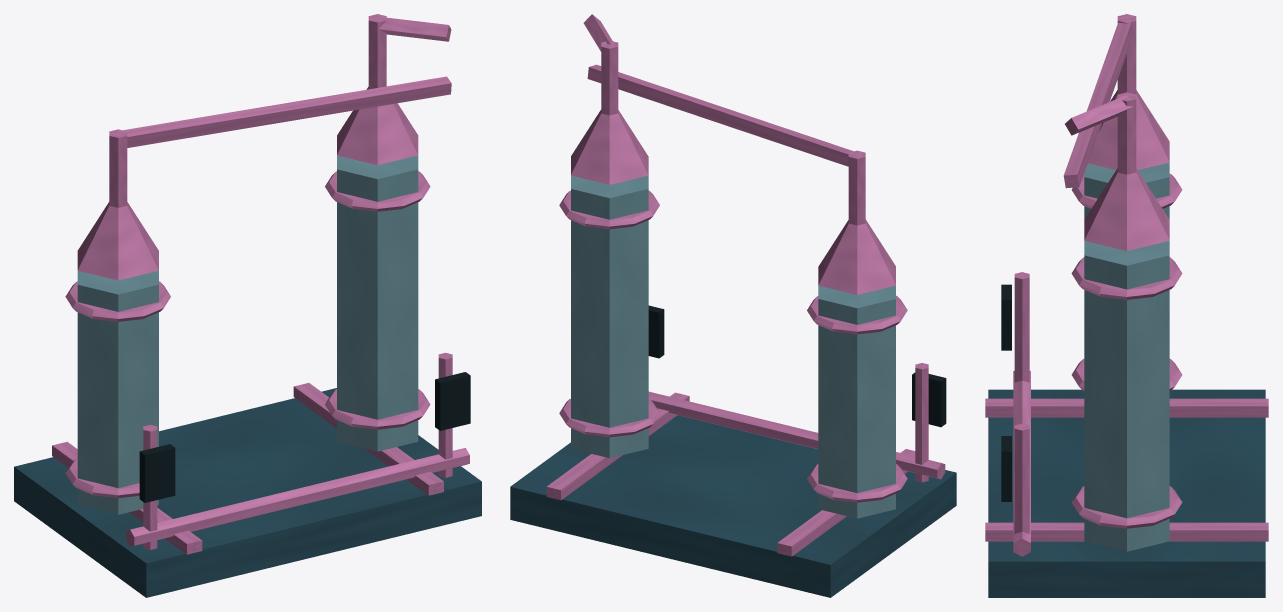
File: atlas100-s064-a01.lod1.glb
The picture shows the model from 3 angles, left to right: view 1: azimuth 30°, elevation 25°; view 2: azimuth 150°, elevation 25°; view 3: azimuth 270°, elevation 25°; orthographic projection. The views are drawn at different scales.
Visible parts, largest first — view 1: atlas100-s064-a01:part-000, atlas100-s064-a01:part-010, atlas100-s064-a01:part-003, atlas100-s064-a01:part-009, atlas100-s064-a01:part-021, atlas100-s064-a01:part-007, atlas100-s064-a01:part-014, atlas100-s064-a01:part-002, atlas100-s064-a01:part-018, atlas100-s064-a01:part-020, atlas100-s064-a01:part-011, atlas100-s064-a01:part-012 (+8 smaller); view 2: atlas100-s064-a01:part-000, atlas100-s064-a01:part-010, atlas100-s064-a01:part-003, atlas100-s064-a01:part-009, atlas100-s064-a01:part-014, atlas100-s064-a01:part-007, atlas100-s064-a01:part-021, atlas100-s064-a01:part-002, atlas100-s064-a01:part-017, atlas100-s064-a01:part-001, atlas100-s064-a01:part-004, atlas100-s064-a01:part-012 (+6 smaller); view 3: atlas100-s064-a01:part-000, atlas100-s064-a01:part-010, atlas100-s064-a01:part-014, atlas100-s064-a01:part-001, atlas100-s064-a01:part-002, atlas100-s064-a01:part-007, atlas100-s064-a01:part-009, atlas100-s064-a01:part-019, atlas100-s064-a01:part-017, atlas100-s064-a01:part-003, atlas100-s064-a01:part-021, atlas100-s064-a01:part-012 (+8 smaller).
Part boxes in pixels (x1,y1,x2,y2): atlas100-s064-a01:part-000: [14, 388, 481, 597]; atlas100-s064-a01:part-010: [337, 155, 418, 451]; atlas100-s064-a01:part-003: [77, 270, 158, 514]; atlas100-s064-a01:part-009: [116, 76, 451, 147]; atlas100-s064-a01:part-021: [126, 448, 469, 546]; atlas100-s064-a01:part-007: [77, 202, 158, 280]; atlas100-s064-a01:part-014: [337, 87, 418, 165]; atlas100-s064-a01:part-002: [293, 383, 443, 495]; atlas100-s064-a01:part-018: [139, 444, 175, 502]; atlas100-s064-a01:part-020: [435, 372, 470, 430]; atlas100-s064-a01:part-011: [325, 389, 430, 429]; atlas100-s064-a01:part-012: [325, 171, 430, 211]; atlas100-s064-a01:part-000: [510, 415, 956, 597]; atlas100-s064-a01:part-010: [571, 175, 648, 458]; atlas100-s064-a01:part-003: [818, 285, 895, 518]; atlas100-s064-a01:part-009: [587, 64, 854, 166]; atlas100-s064-a01:part-014: [571, 109, 648, 184]; atlas100-s064-a01:part-007: [818, 219, 895, 294]; atlas100-s064-a01:part-021: [648, 391, 945, 479]; atlas100-s064-a01:part-002: [546, 392, 689, 500]; atlas100-s064-a01:part-017: [915, 363, 928, 482]; atlas100-s064-a01:part-001: [777, 449, 915, 556]; atlas100-s064-a01:part-004: [807, 464, 907, 502]; atlas100-s064-a01:part-012: [559, 190, 659, 229]; atlas100-s064-a01:part-000: [988, 389, 1265, 597]; atlas100-s064-a01:part-010: [1084, 240, 1169, 551]; atlas100-s064-a01:part-014: [1084, 168, 1169, 250]; atlas100-s064-a01:part-001: [985, 398, 1268, 417]; atlas100-s064-a01:part-002: [985, 522, 1268, 541]; atlas100-s064-a01:part-007: [1088, 90, 1169, 169]; atlas100-s064-a01:part-009: [1063, 18, 1133, 188]; atlas100-s064-a01:part-019: [1014, 423, 1029, 533]; atlas100-s064-a01:part-017: [1014, 272, 1029, 382]; atlas100-s064-a01:part-003: [1084, 162, 1169, 219]; atlas100-s064-a01:part-021: [1013, 370, 1030, 556]; atlas100-s064-a01:part-012: [1071, 257, 1182, 299].
Bounding box in the file's own units: 2.8 × 3.46 × 1.84.
5 materials, 5 textured.
